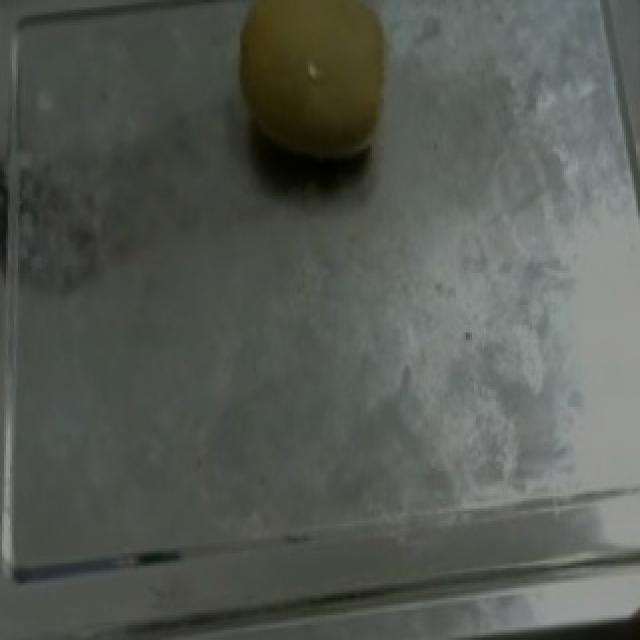Fruit: (220, 0, 414, 171)
